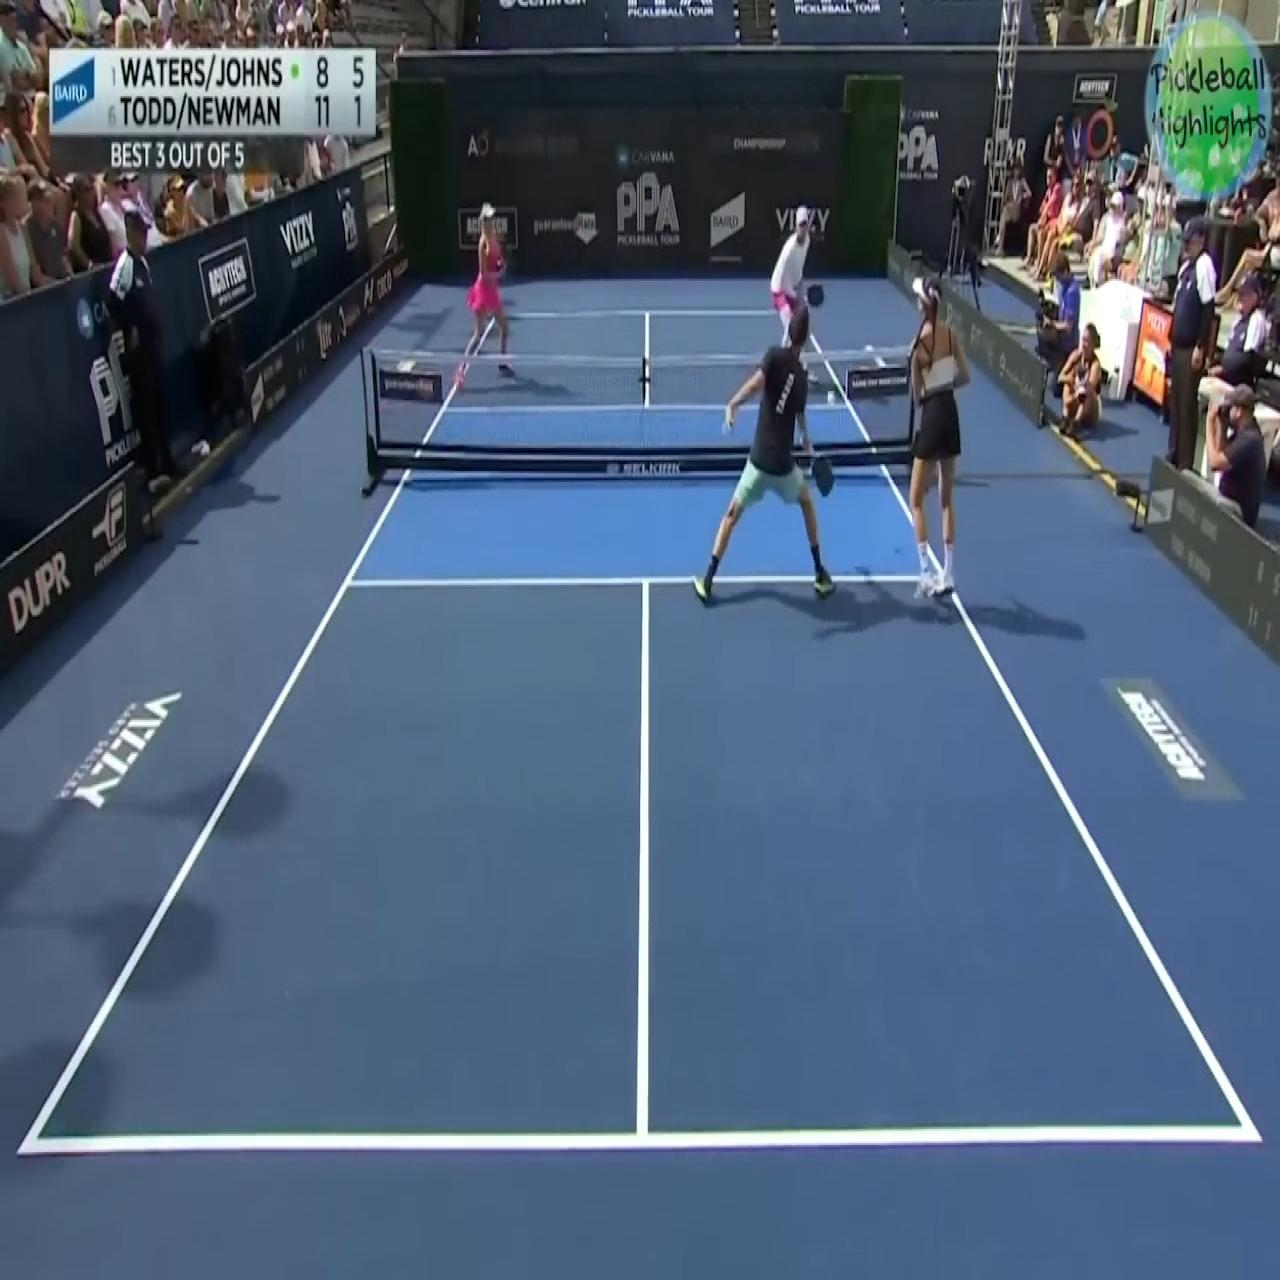Pickleball: (824, 382, 837, 407)
